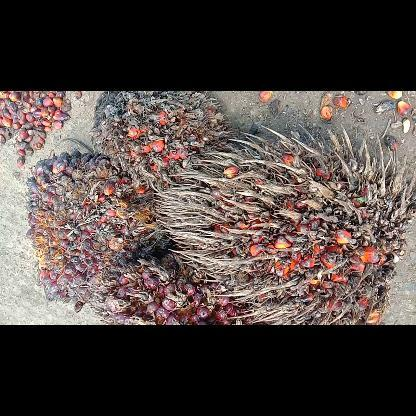TBS masak: (26, 150, 170, 310), (91, 254, 257, 324)
Terlalu masak: (154, 126, 414, 324), (90, 90, 228, 188)
